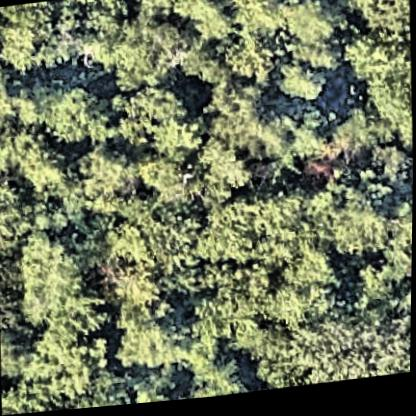tree-top: (214, 90, 328, 180), (292, 305, 412, 389), (234, 0, 340, 90), (12, 226, 96, 334), (14, 319, 110, 410), (351, 26, 414, 158), (116, 83, 203, 162), (194, 194, 281, 271), (0, 1, 84, 78), (332, 189, 395, 273), (41, 80, 113, 151), (183, 139, 252, 212), (112, 312, 187, 379), (136, 15, 197, 87), (78, 141, 141, 207), (273, 60, 334, 118), (0, 168, 37, 263), (170, 0, 243, 48), (187, 356, 254, 403), (381, 205, 413, 291), (367, 144, 414, 199), (0, 312, 27, 393), (319, 0, 410, 22), (0, 57, 19, 137), (129, 380, 184, 407)
